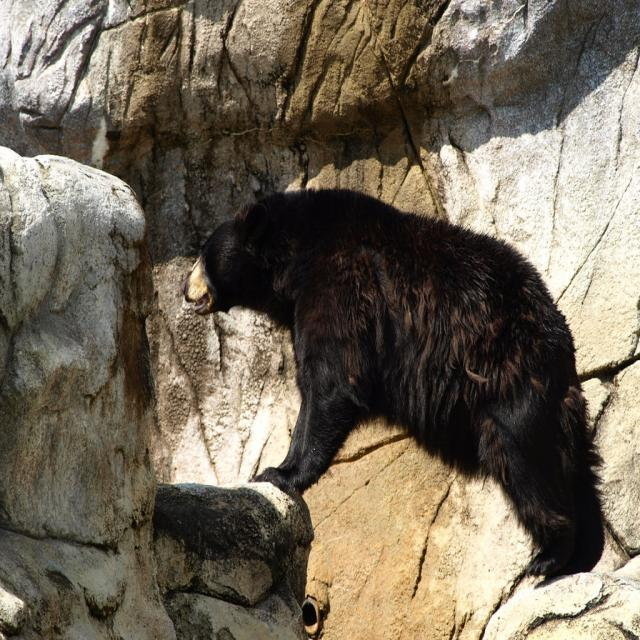Bear: (181, 186, 608, 584)
